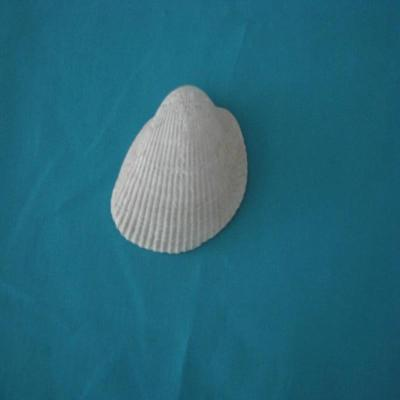natural_science_collection: (110, 85, 248, 255)
